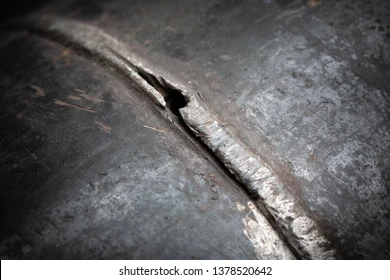hole: (128, 60, 202, 128)
